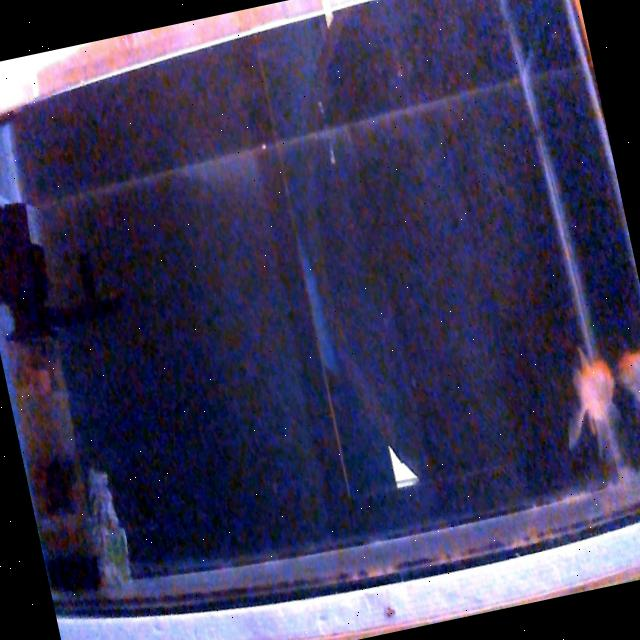fish: (546, 336, 628, 454), (611, 339, 640, 414)
